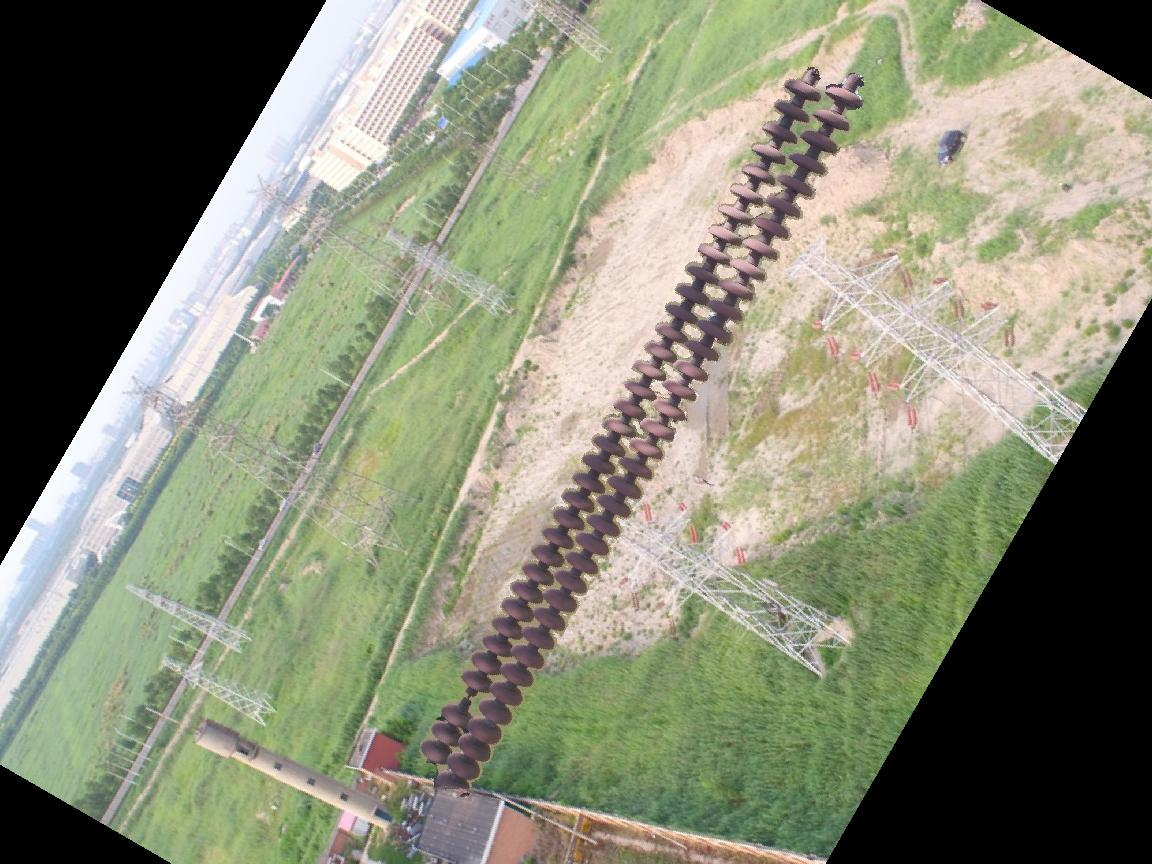insulator: (417, 73, 868, 791)
insulator_stringdrop: (437, 667, 497, 730)
